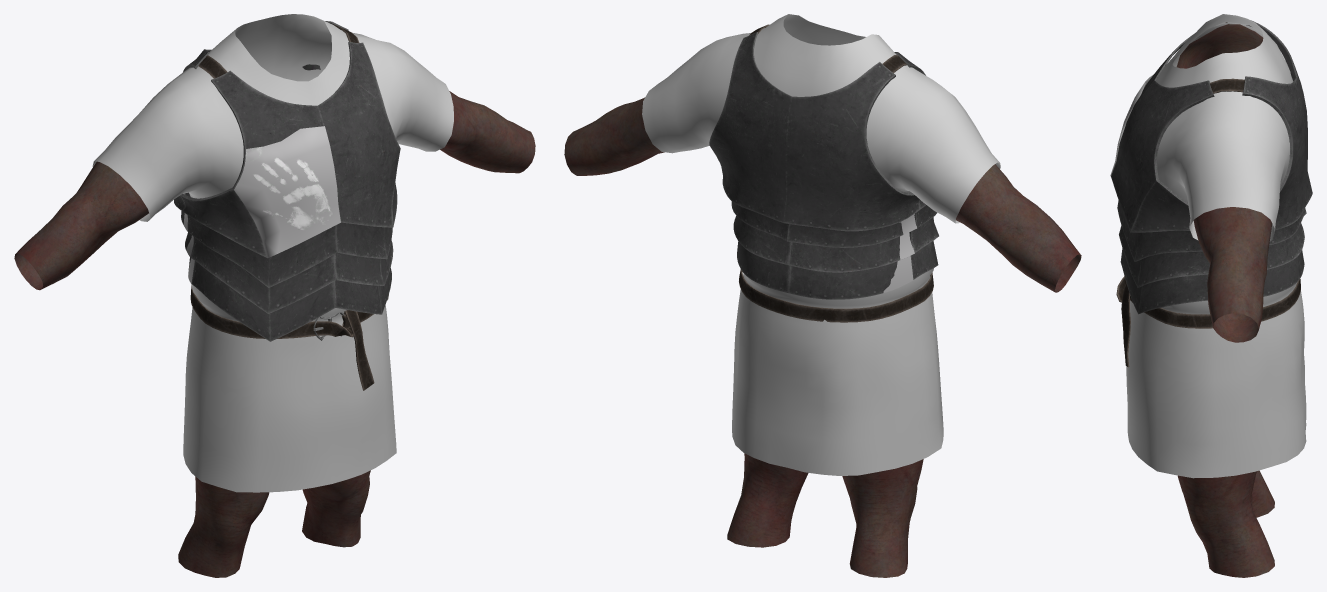
The model's file is sk_uruk_hai_plate_heavy_a1.fbx.
3 renders of one model, left to right at view 1: azimuth 30°, elevation 25°; view 2: azimuth 150°, elevation 25°; view 3: azimuth 270°, elevation 25°, orthographic. The views are drawn at different scales.
Parts seen in each view (by area): view 1: sk_uruk_hai_plate_heavy_a1.0, sk_uruk_hai_plate_heavy_a1.2, sk_uruk_hai_plate_heavy_a1.body.1, sk_uruk_hai_plate_heavy_a1.3, sk_uruk_hai_plate_heavy_a1.body.0, sk_uruk_hai_plate_heavy_a1.1; view 2: sk_uruk_hai_plate_heavy_a1.0, sk_uruk_hai_plate_heavy_a1.2, sk_uruk_hai_plate_heavy_a1.body.1, sk_uruk_hai_plate_heavy_a1.body.0, sk_uruk_hai_plate_heavy_a1.1, sk_uruk_hai_plate_heavy_a1.3; view 3: sk_uruk_hai_plate_heavy_a1.0, sk_uruk_hai_plate_heavy_a1.2, sk_uruk_hai_plate_heavy_a1.body.1, sk_uruk_hai_plate_heavy_a1.body.0, sk_uruk_hai_plate_heavy_a1.1, sk_uruk_hai_plate_heavy_a1.3.
Boxes of the visible parts, x1=… form: sk_uruk_hai_plate_heavy_a1.0: x1=92, y1=14, x2=453, y2=492; sk_uruk_hai_plate_heavy_a1.2: x1=174, y1=21, x2=400, y2=341; sk_uruk_hai_plate_heavy_a1.body.1: x1=14, y1=91, x2=535, y2=290; sk_uruk_hai_plate_heavy_a1.3: x1=183, y1=126, x2=340, y2=283; sk_uruk_hai_plate_heavy_a1.body.0: x1=178, y1=470, x2=370, y2=577; sk_uruk_hai_plate_heavy_a1.1: x1=190, y1=24, x2=388, y2=390; sk_uruk_hai_plate_heavy_a1.0: x1=642, y1=14, x2=1000, y2=475; sk_uruk_hai_plate_heavy_a1.2: x1=709, y1=32, x2=938, y2=299; sk_uruk_hai_plate_heavy_a1.body.1: x1=564, y1=97, x2=1081, y2=292; sk_uruk_hai_plate_heavy_a1.body.0: x1=727, y1=453, x2=923, y2=577; sk_uruk_hai_plate_heavy_a1.1: x1=739, y1=24, x2=933, y2=322; sk_uruk_hai_plate_heavy_a1.3: x1=883, y1=213, x2=916, y2=292; sk_uruk_hai_plate_heavy_a1.0: x1=1126, y1=14, x2=1306, y2=478; sk_uruk_hai_plate_heavy_a1.2: x1=1111, y1=20, x2=1312, y2=314; sk_uruk_hai_plate_heavy_a1.body.1: x1=1176, y1=24, x2=1272, y2=342; sk_uruk_hai_plate_heavy_a1.body.0: x1=1177, y1=470, x2=1274, y2=577; sk_uruk_hai_plate_heavy_a1.1: x1=1116, y1=22, x2=1300, y2=367; sk_uruk_hai_plate_heavy_a1.3: x1=1110, y1=74, x2=1153, y2=176.
Bounding box in the file's own units: 1.2 × 0.4324 × 1.19.
